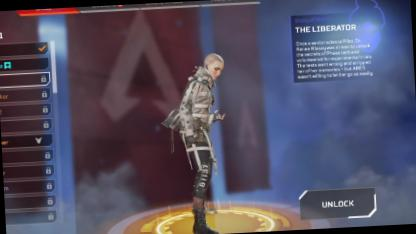Target: (168, 52, 230, 191)
